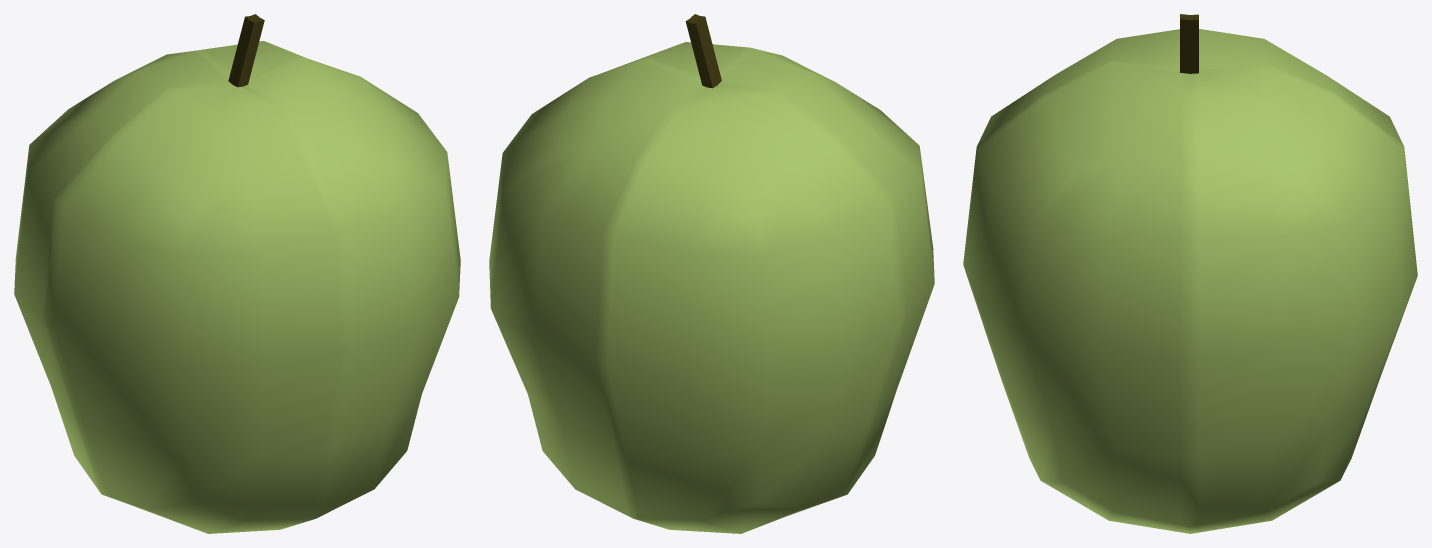
File: GreenApple.fbx
3 views of the same model, side by side, from view 1: azimuth 30°, elevation 25°; view 2: azimuth 150°, elevation 25°; view 3: azimuth 270°, elevation 25° (orthographic). The views are drawn at different scales.
Visible parts, largest first — view 1: AppleGreen; view 2: AppleGreen; view 3: AppleGreen.
Part boxes in pixels (x1,y1,x2,y2): AppleGreen: [14, 14, 460, 533]; AppleGreen: [489, 14, 934, 533]; AppleGreen: [963, 14, 1417, 533].
Bounding box in the file's own units: 0.9081 × 1.08 × 0.9081.
